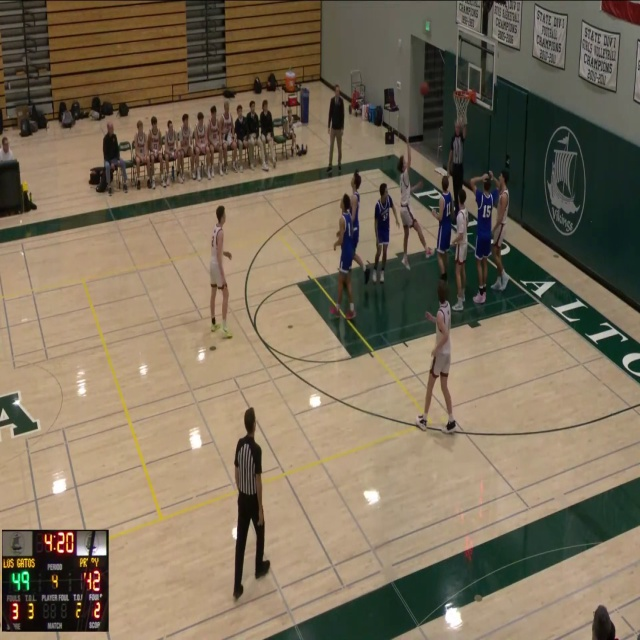Basketball: (419, 82, 429, 96)
